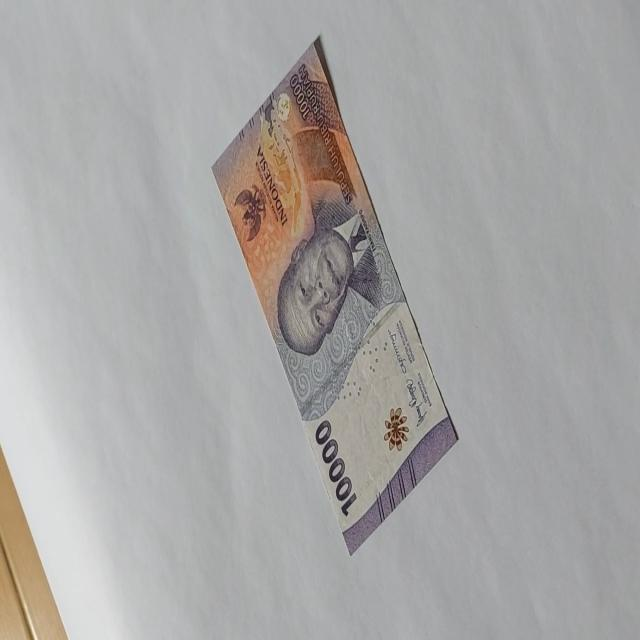sepuluh ribu rupiah: (210, 37, 460, 556)
